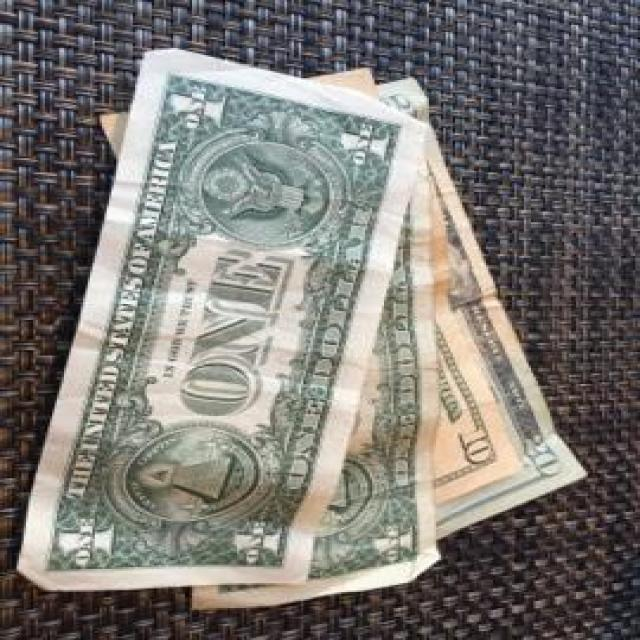1-Back: (12, 48, 429, 594)
